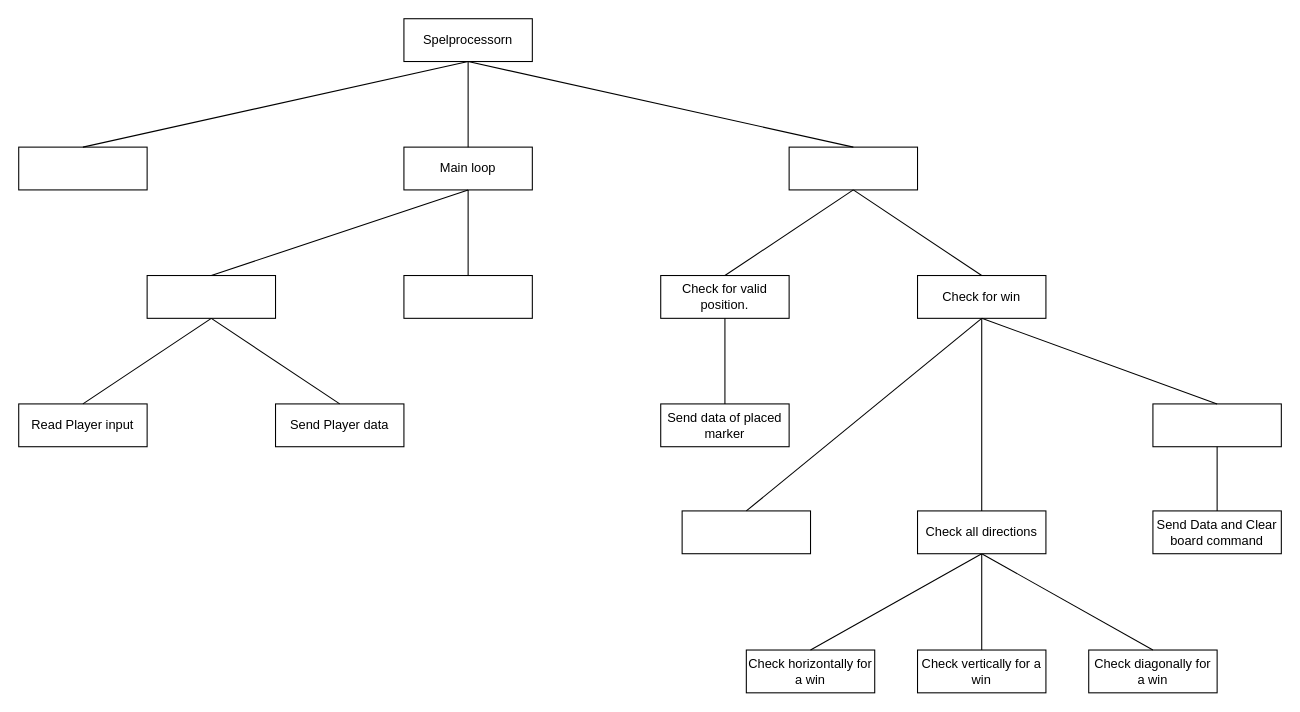
Some shapes in this 1300 by 712 pixel diagram are drawn without their labels. The centre of each missing label's shape, as x and y in pixels:
"Check if the map is full" belongs at point 746,532.
"Check who won or if the game is over" belongs at point 1216,425.
"Delay" belongs at point 467,296.
"Init" belongs at point 82,168.
"Interrupt 0 and Interrupt 1" belongs at point 853,168.
"Player Input" belongs at point 211,296.
